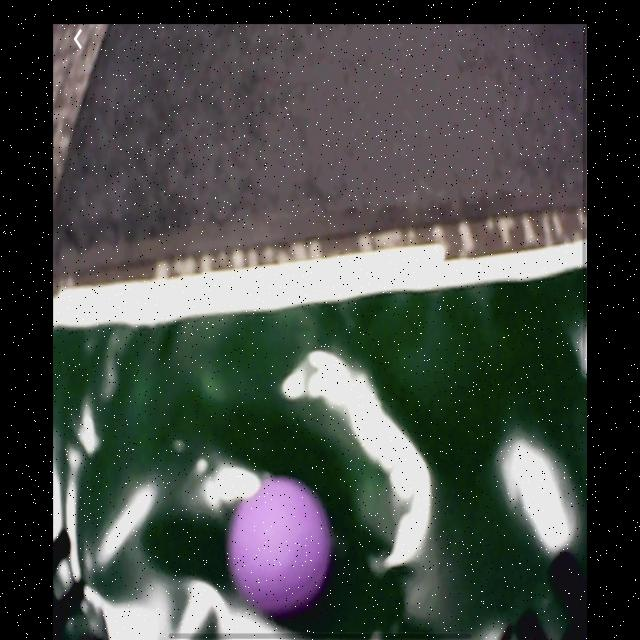ball: (229, 479, 333, 611)
